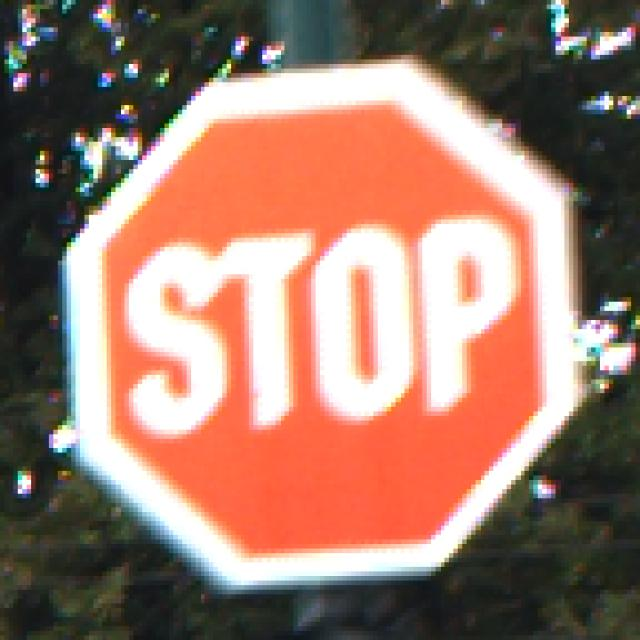STOP: (54, 56, 588, 581)
